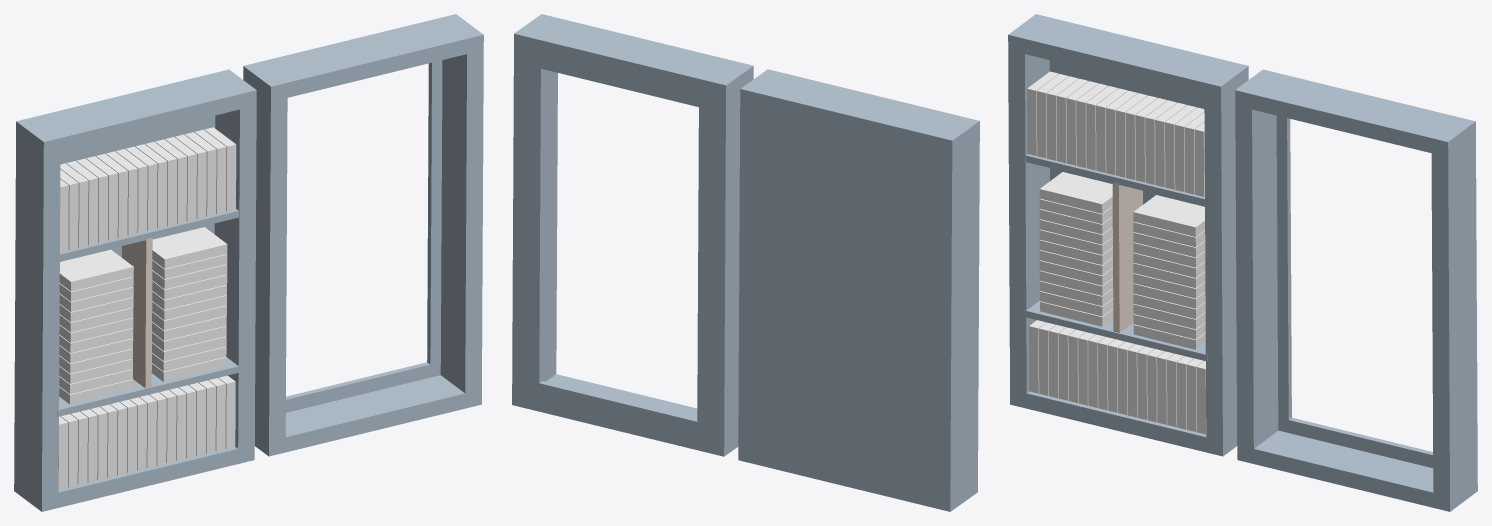
The picture shows the model from 3 angles, left to right: view 1: azimuth 30°, elevation 25°; view 2: azimuth 150°, elevation 25°; view 3: azimuth 330°, elevation 25°; orthographic projection.
Parts seen in each view (by area): view 1: kutu 2, kutu 1, üst kapak kutusu, vertical_divider, arka taban, book49, book37, horizontal_divider2, horizontal_divider1, book9, book17, book10 (+55 smaller); view 2: arka taban, kutu 2, kutu 1, üst kapak kutusu; view 3: kutu 2, kutu 1, üst kapak kutusu, vertical_divider, arka taban, book37, book49, horizontal_divider2, horizontal_divider1, book5, book6, book12 (+55 smaller).
Boxes of the visible parts, bbox=[...] form: kutu 2: bbox=[243, 14, 483, 456]; kutu 1: bbox=[14, 69, 256, 511]; üst kapak kutusu: bbox=[243, 14, 457, 412]; vertical_divider: bbox=[122, 237, 152, 388]; arka taban: bbox=[14, 70, 227, 458]; book49: bbox=[152, 227, 227, 268]; book37: bbox=[59, 249, 133, 291]; horizontal_divider2: bbox=[57, 357, 240, 416]; horizontal_divider1: bbox=[60, 209, 238, 260]; book9: bbox=[115, 149, 147, 233]; book17: bbox=[194, 129, 226, 214]; book10: bbox=[125, 146, 157, 230]; arka taban: bbox=[738, 87, 955, 510]; kutu 2: bbox=[512, 14, 753, 456]; kutu 1: bbox=[738, 69, 979, 511]; üst kapak kutusu: bbox=[512, 32, 729, 456]; kutu 2: bbox=[1235, 69, 1477, 511]; kutu 1: bbox=[1008, 14, 1248, 456]; üst kapak kutusu: bbox=[1262, 71, 1477, 492]; vertical_divider: bbox=[1112, 182, 1142, 332]; arka taban: bbox=[1033, 14, 1248, 206]; book37: bbox=[1039, 172, 1112, 213]; book49: bbox=[1133, 195, 1204, 236]; horizontal_divider2: bbox=[1024, 300, 1207, 361]; horizontal_divider1: bbox=[1025, 154, 1204, 205]; book5: bbox=[1066, 81, 1098, 165]; book6: bbox=[1076, 83, 1108, 167]; book12: bbox=[1135, 98, 1167, 182].
Size of the model in its own units: 5.35 by 4.32 by 0.6267.
